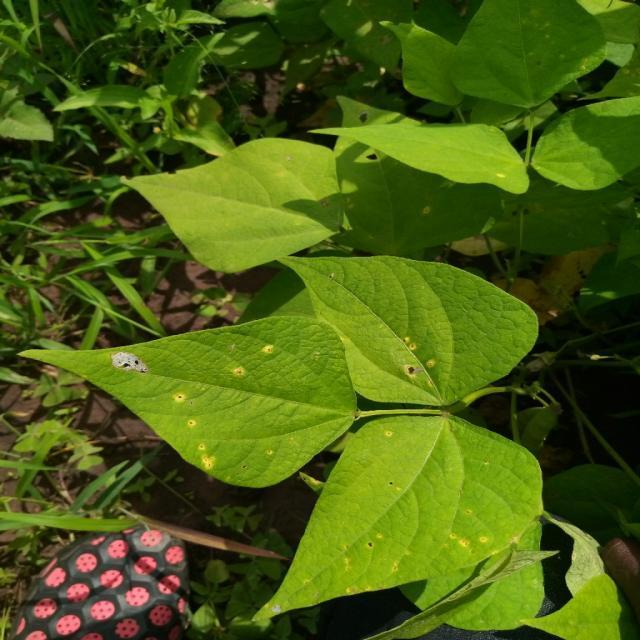hawar: (96, 335, 166, 386), (390, 323, 435, 388)
sehat: (345, 446, 491, 533), (188, 168, 314, 239), (265, 380, 347, 443), (309, 268, 387, 318)
